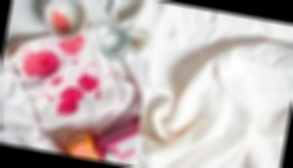lipstick: (45, 76, 89, 120), (25, 46, 70, 86), (53, 28, 93, 62), (70, 67, 107, 102)
